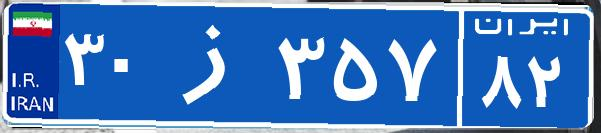0: (110, 28, 158, 105)
2: (525, 38, 570, 115)
3: (273, 28, 330, 110), (57, 26, 110, 107)
5: (330, 28, 385, 110)
7: (385, 28, 445, 110)
8: (475, 38, 525, 113)
ز: (158, 15, 273, 115)
